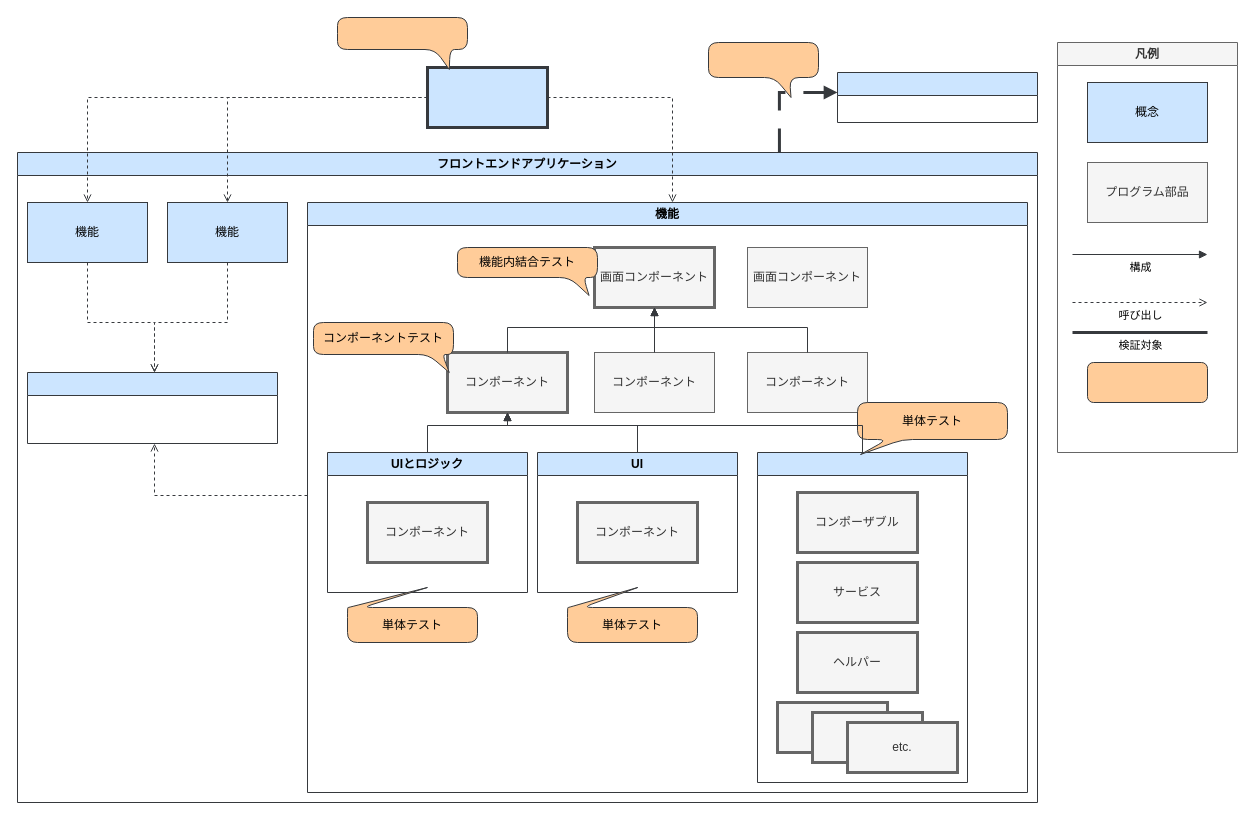
This 1255x820 diagram has some shape labels left out. Each missing label, with the box of its shape:
テストレベル: (1086, 362, 1208, 402)
バックエンドアプリケーション: (836, 72, 1038, 122)
ユースケース: (426, 66, 548, 128)
ユースケーステスト: (336, 16, 468, 70)
ロジック: (756, 452, 968, 782)
共通機能: (26, 372, 278, 444)
結合テスト: (708, 42, 818, 98)
